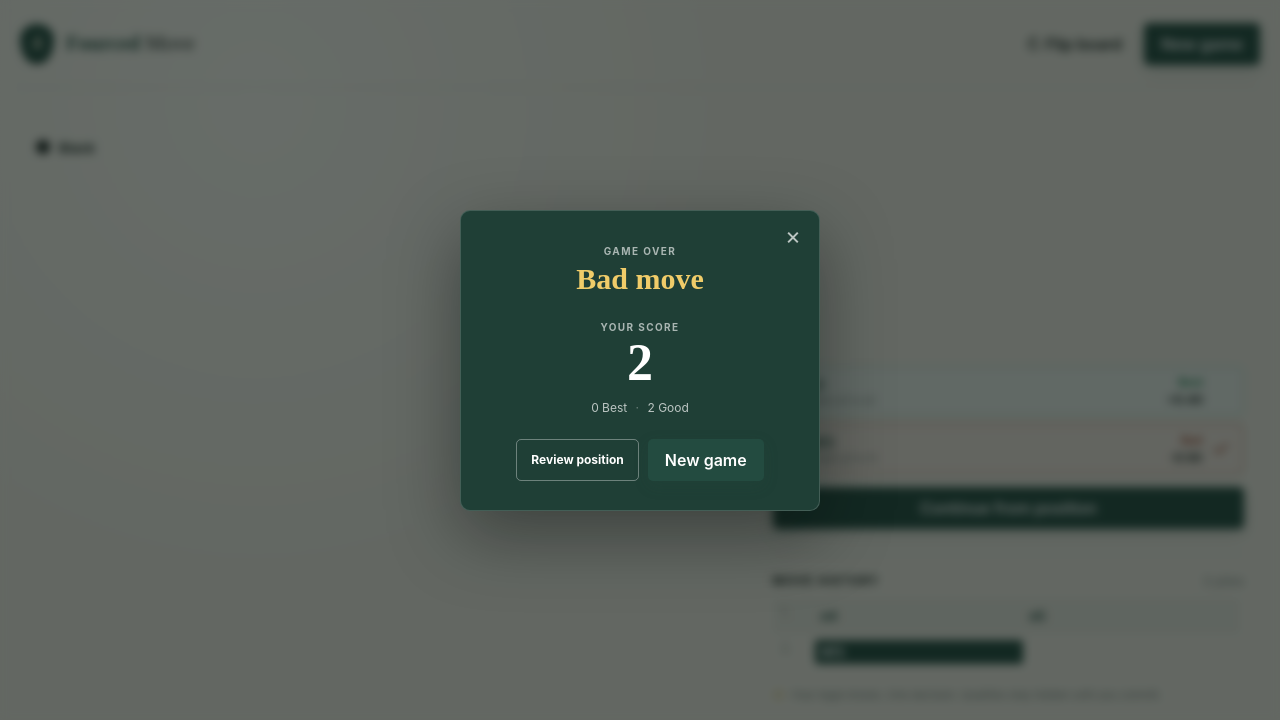
completed game review › allows retrying a historical move when its analysis fails
The width and height of the screenshot is (1280, 720).
Click the button "Review position" at x=578, y=460, box [516,438,639,480]
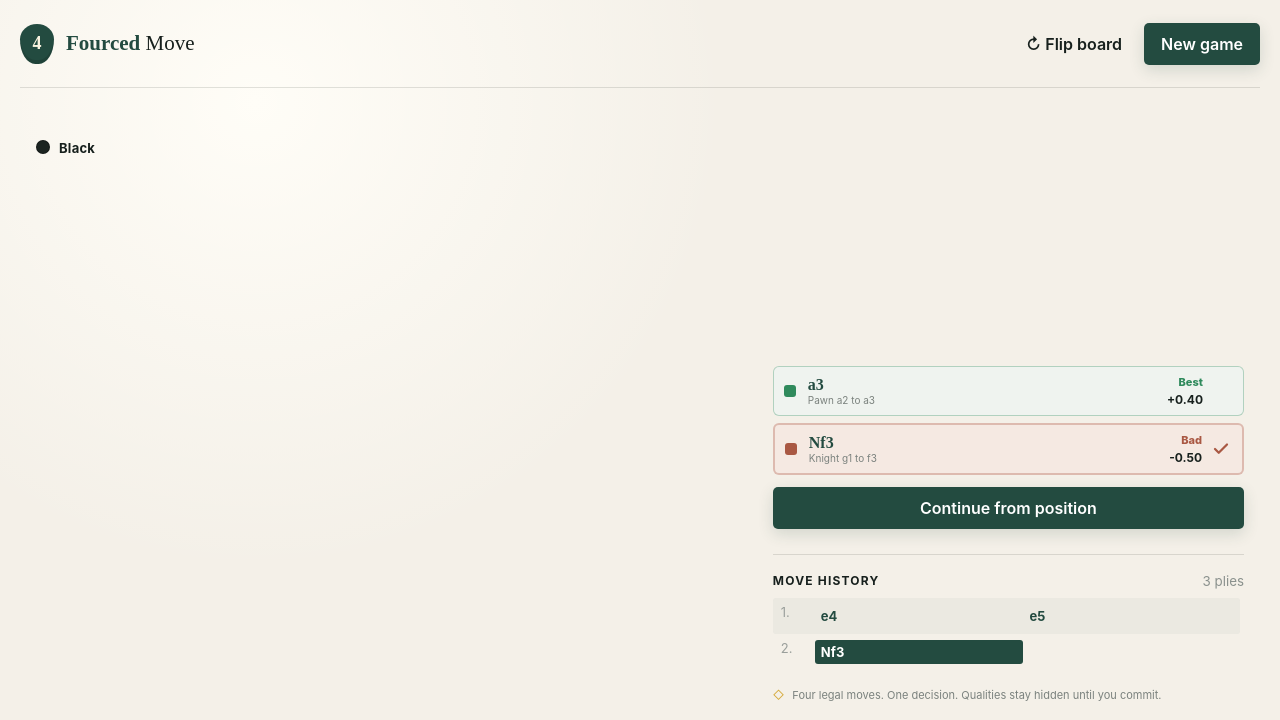
Click the button named "Review 1. e4" at x=919, y=616, box [815,604,1023,628]
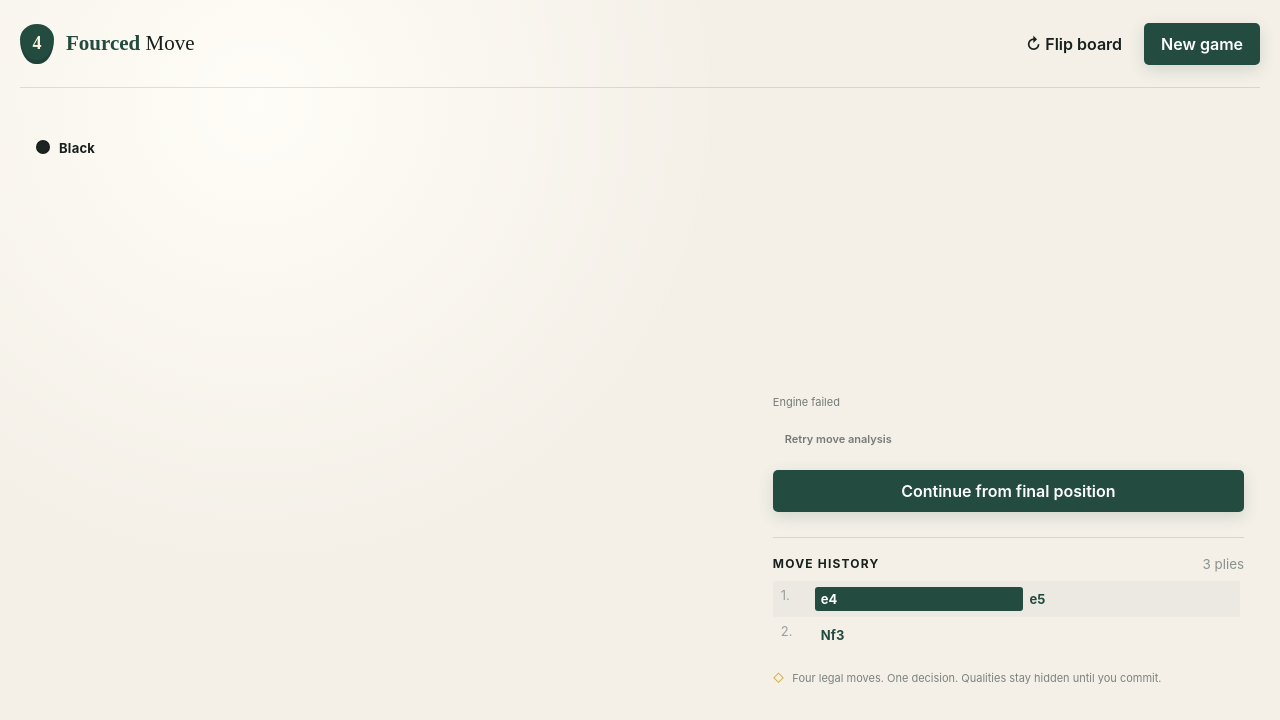
expect the text "Engine failed" is shown: met, box [773,394,840,408]
Click the button "Retry move analysis" at x=838, y=439, box [773,421,904,458]
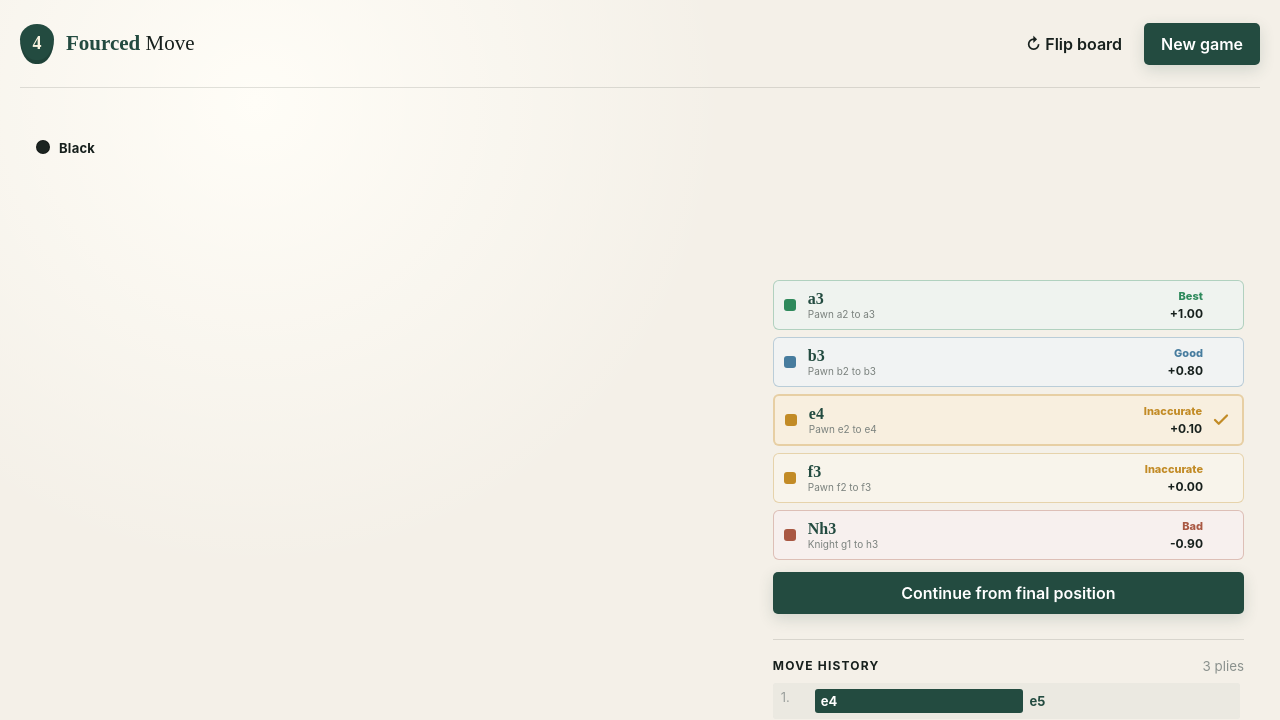
expect the element labelled "e4 Pawn e2 to e4 Inaccurate +0.10" is shown: met, box [773,394,1244,446]
